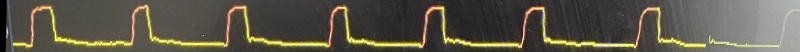normal_pressure: (7, 0, 716, 52)
